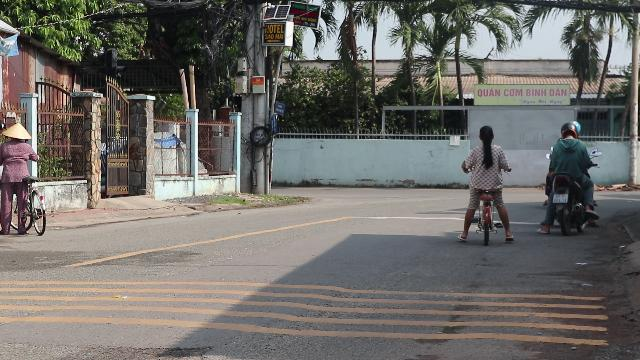helmet: (558, 120, 578, 140)
licenseplate: (552, 195, 568, 204)
motorcyclist: (540, 121, 598, 235)
